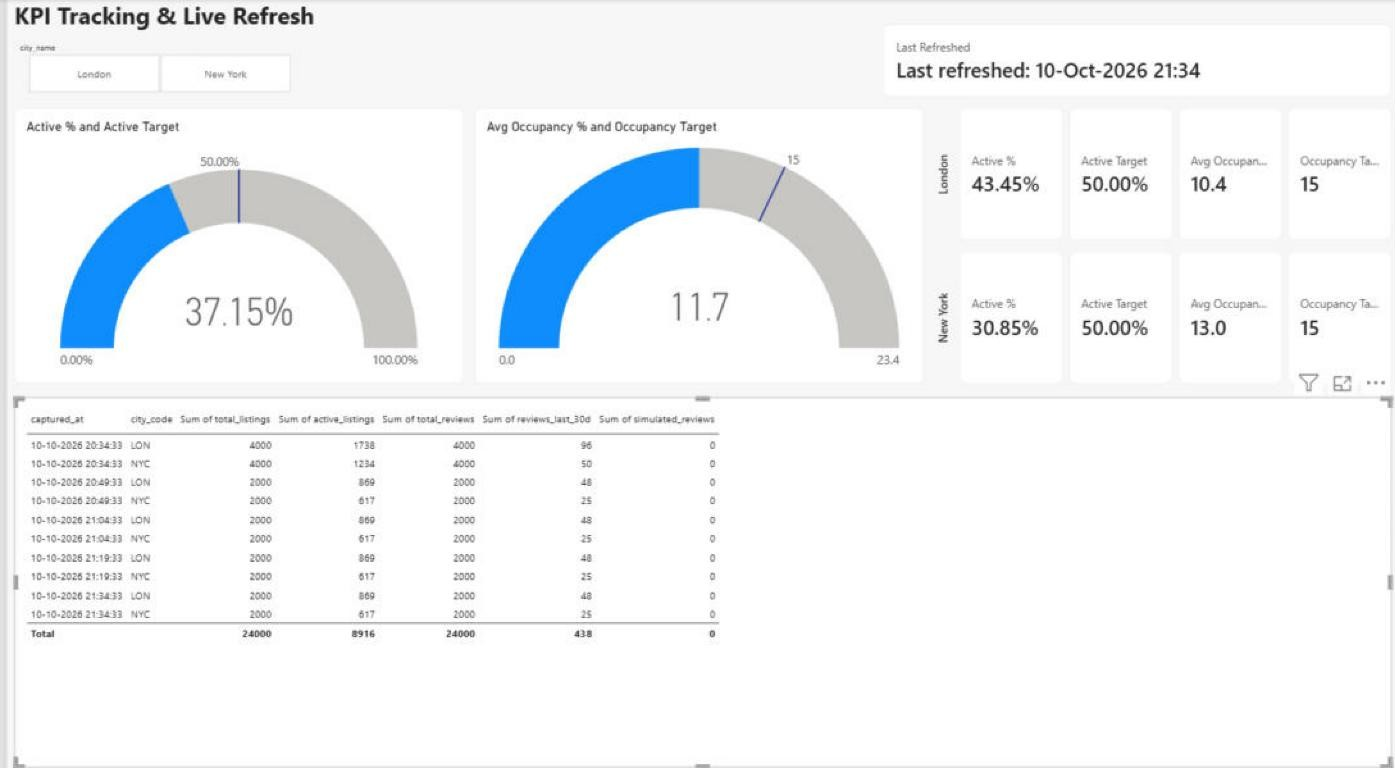

Layout of this report page (visuals, bound fields, positions):
{"tool":"powerbi","page":{"name":"KPI Tracking","canvas":[1920,1080],"ordinal":3},"visuals":[{"type":"textbox","box":[10,0,1000,55],"z":0},{"type":"slicer","fields":{"Values":["City.city_name"]},"box":[10,60,400,70],"z":1000},{"type":"cardVisual","fields":{"Data":["Listing.Last Refreshed"]},"box":[1210,35,700,100],"z":2000},{"type":"gauge","fields":{"Y":["Listing.Active %"],"TargetValue":["Listing.Active Target"]},"box":[10,150,620,380],"z":3000},{"type":"gauge","fields":{"Y":["Listing.Avg Occupancy %"],"TargetValue":["Listing.Occupancy Target"]},"box":[645,150,620,380],"z":4000},{"type":"cardVisual","fields":{"Data":["Listing.Active %","Listing.Active Target","Listing.Avg Occupancy %","Listing.Occupancy Target"],"Rows":["City.city_name"]},"box":[1280,150,630,380],"z":5000},{"type":"tableEx","fields":{"Values":["KPISnapshot.captured_at","KPISnapshot.city_code","Sum(KPISnapshot.total_listings)","Sum(KPISnapshot.active_listings)","Sum(KPISnapshot.total_reviews)","Sum(KPISnapshot.reviews_last_30d)","Sum(KPISnapshot.simulated_reviews)"]},"box":[10,550,1900,510],"z":6000}]}

Visuals, with their boxes in screenshot pixels (x1, y1, x2, y2), scaled from the page's 1920x1080 canvas onto the 1395x768 screenshot:
textbox: [7,0,734,39]
slicer - City.city_name: [7,43,298,92]
cardVisual - Listing.Last Refreshed: [879,25,1388,96]
gauge - Listing.Active % x Listing.Active Target: [7,107,458,377]
gauge - Listing.Avg Occupancy % x Listing.Occupancy Target: [469,107,919,377]
cardVisual - Listing.Active % x Listing.Active Target: [930,107,1388,377]
tableEx - KPISnapshot.captured_at x KPISnapshot.city_code: [7,391,1388,754]
